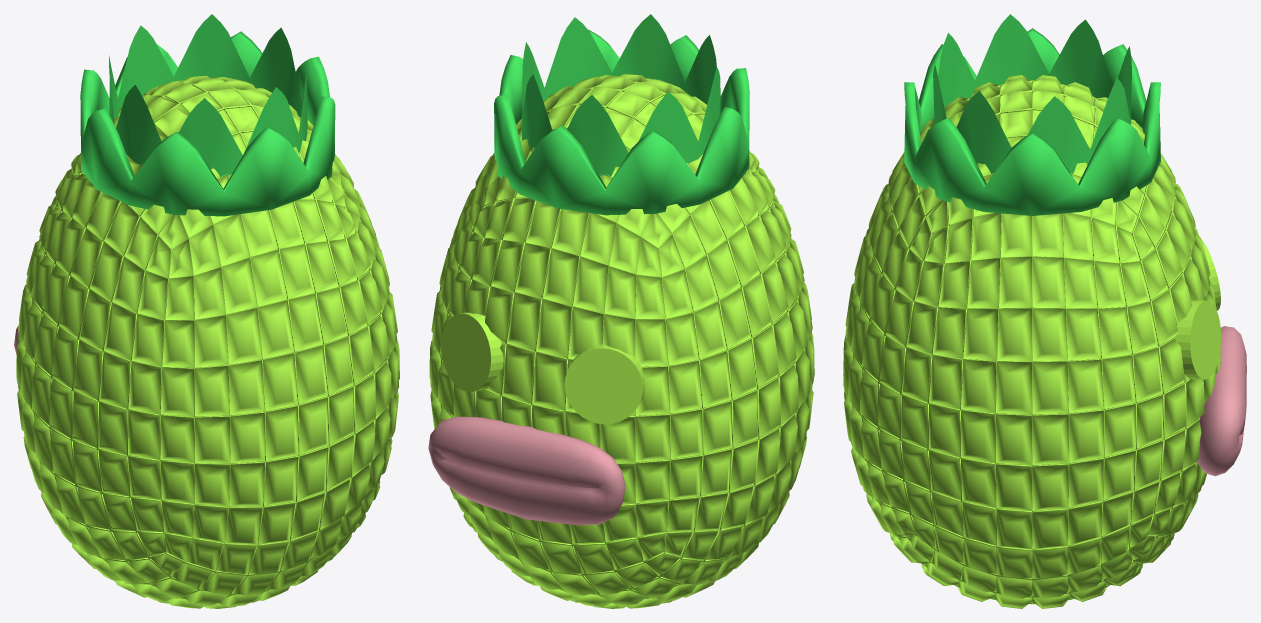
Rendered from Piney.glb.
The picture shows the model from 3 angles, left to right: view 1: azimuth 30°, elevation 25°; view 2: azimuth 150°, elevation 25°; view 3: azimuth 270°, elevation 25°; orthographic projection.
Parts seen in each view (by area): view 1: Cube, Plane, Plane.001; view 2: Cube, Plane, Cube.001, Plane.001, Cylinder.001, Cylinder; view 3: Cube, Plane, Plane.001, Cube.001, Cylinder.
Boxes of the visible parts, x1,y1,x2,y2 form: Cube: (16,75,399,608); Plane: (80,31,335,216); Plane.001: (109,14,307,177); Cube: (429,74,814,608); Plane: (494,29,749,215); Cube.001: (428,416,625,525); Plane.001: (522,14,720,176); Cylinder.001: (564,344,644,424); Cylinder: (441,312,503,391); Cube: (843,75,1220,608); Plane: (904,28,1160,215); Plane.001: (933,14,1131,174); Cube.001: (1197,326,1246,476); Cylinder: (1174,300,1221,379).
Bounding box in the file's own units: 3.35 × 5.25 × 3.58.
